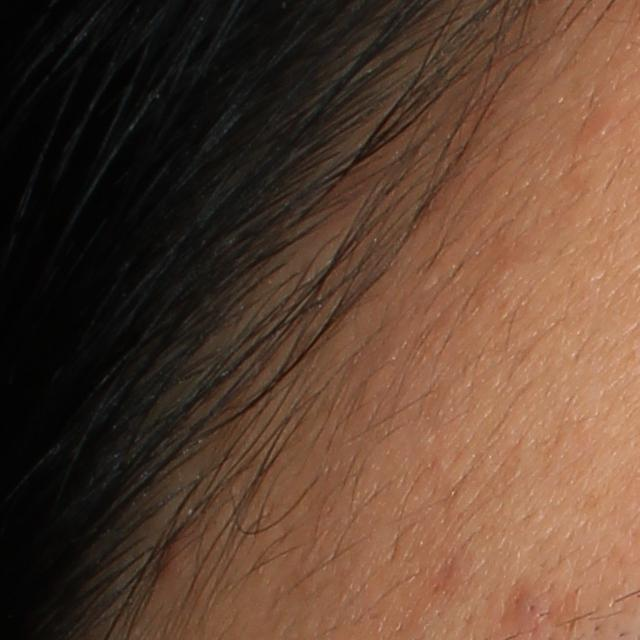papule: (504, 582, 544, 630), (153, 526, 189, 577)
